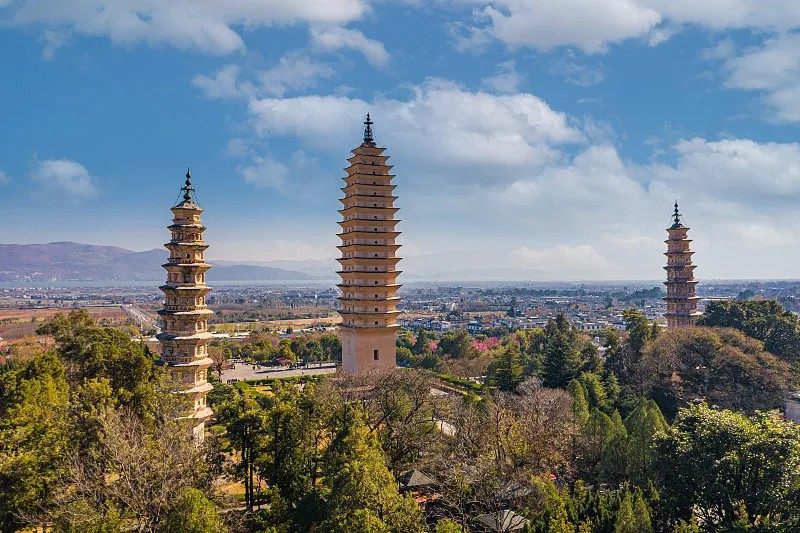ThreePagoda: (335, 110, 402, 370)
